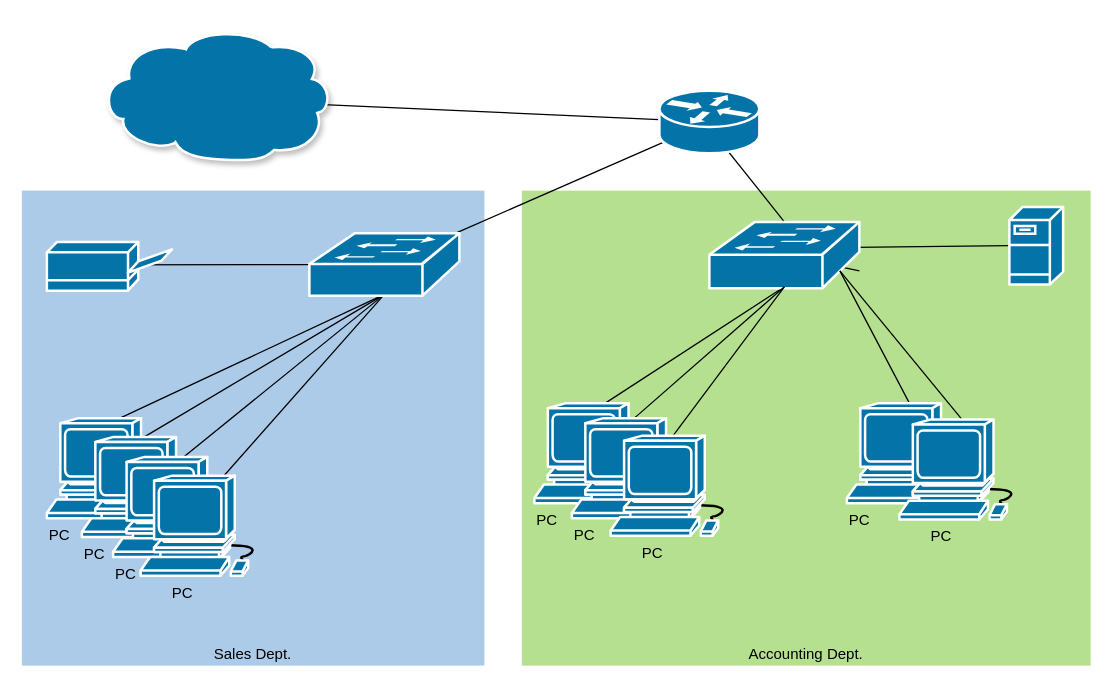
Some shapes in this 1111 by 686 pixel diagram are drawn without their labels. Here are the shapes that lost their labels. From the top down, the centre of each, then its label:
At [216,95]: "Internet".
At [108,265]: "Printer".
At [1036,245]: "File server".
